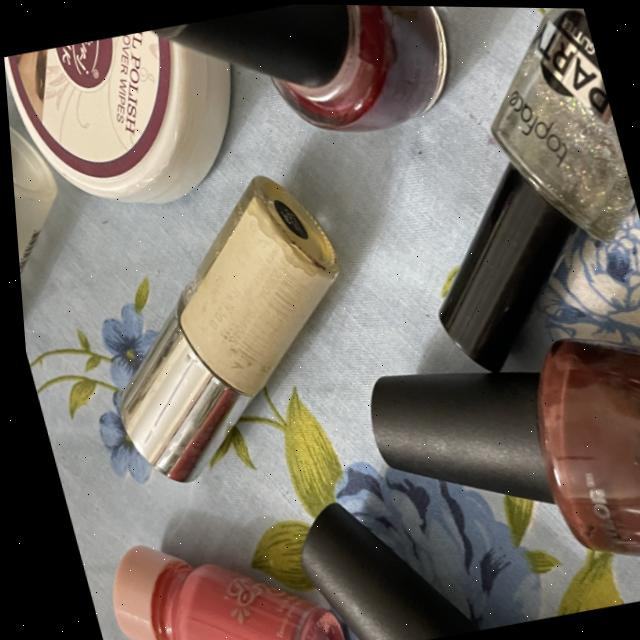Tint: (73, 489, 338, 640)
nail polish: (50, 157, 387, 508), (344, 4, 640, 394), (322, 311, 640, 624), (126, 1, 476, 180)
nail polish remover: (1, 14, 261, 227)
